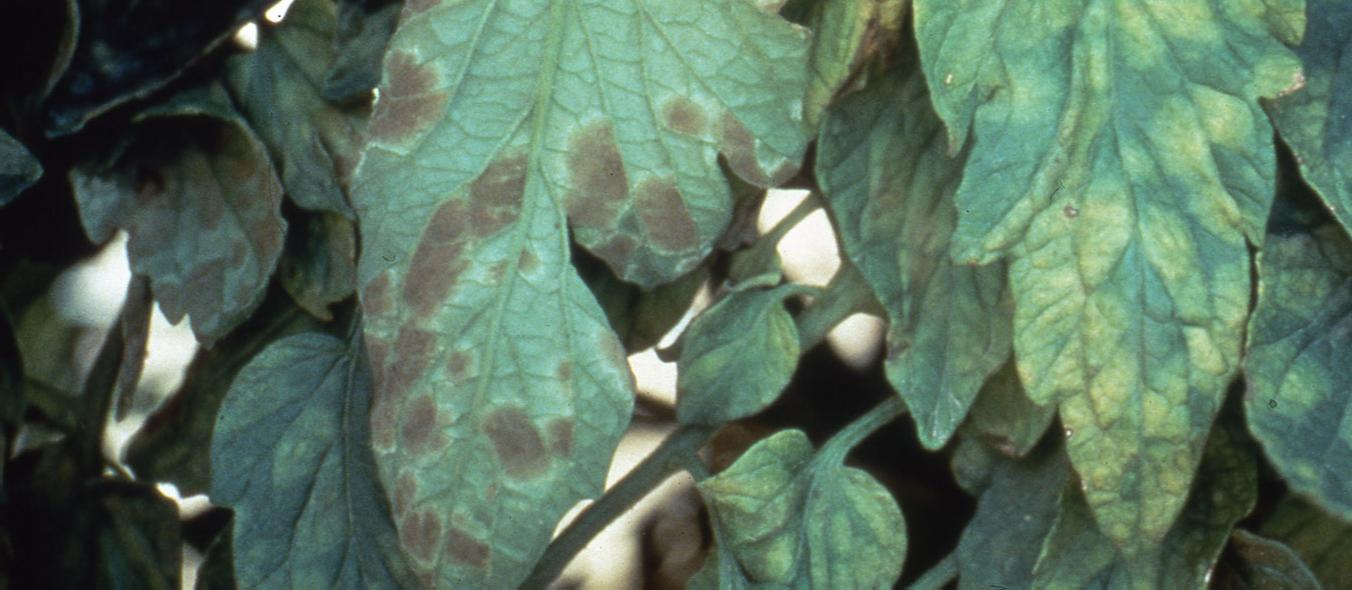Tomato mold leaf: (331, 0, 811, 590), (920, 0, 1322, 575), (1214, 0, 1352, 405), (673, 428, 916, 590)
